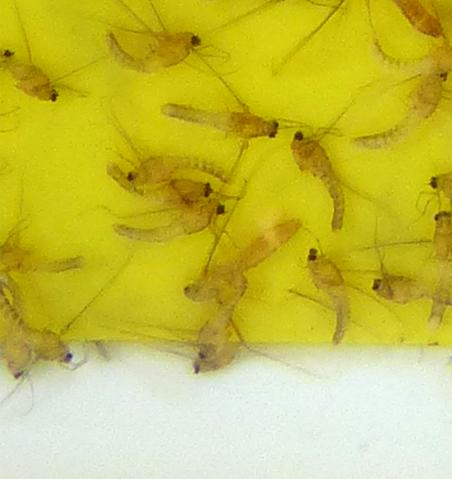Ephemeroptera: (180, 213, 301, 309), (347, 66, 452, 152), (1, 281, 76, 367), (286, 128, 346, 231), (108, 200, 235, 246), (298, 237, 352, 342), (157, 100, 279, 146), (101, 26, 203, 75), (192, 276, 249, 363), (100, 161, 216, 202), (118, 148, 232, 189), (425, 209, 452, 329), (1, 271, 29, 386), (1, 239, 88, 275), (1, 56, 61, 105), (368, 273, 452, 308), (186, 341, 257, 379)
